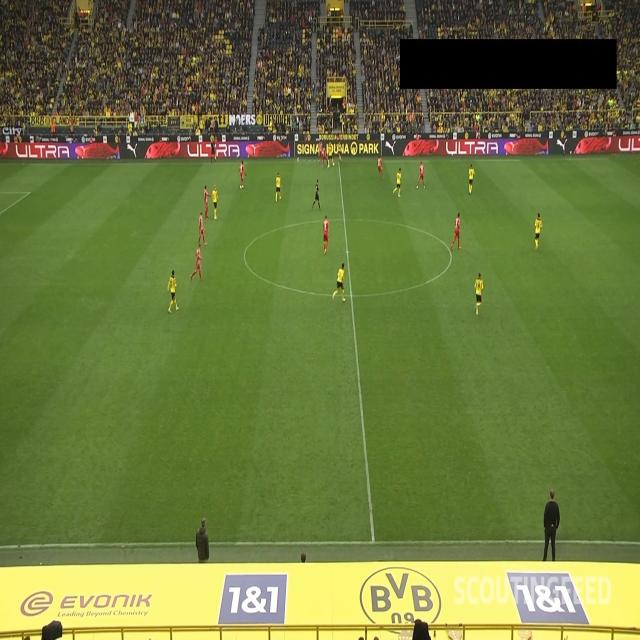ball: (332, 161, 335, 168)
